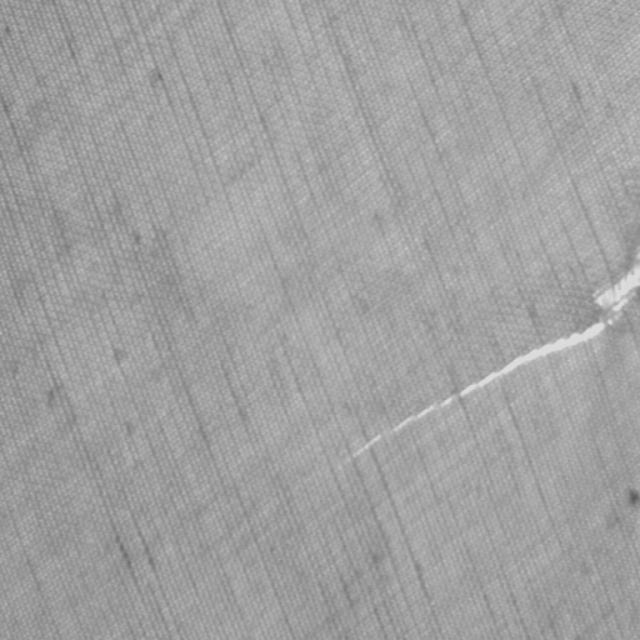hole: (327, 247, 640, 482)
